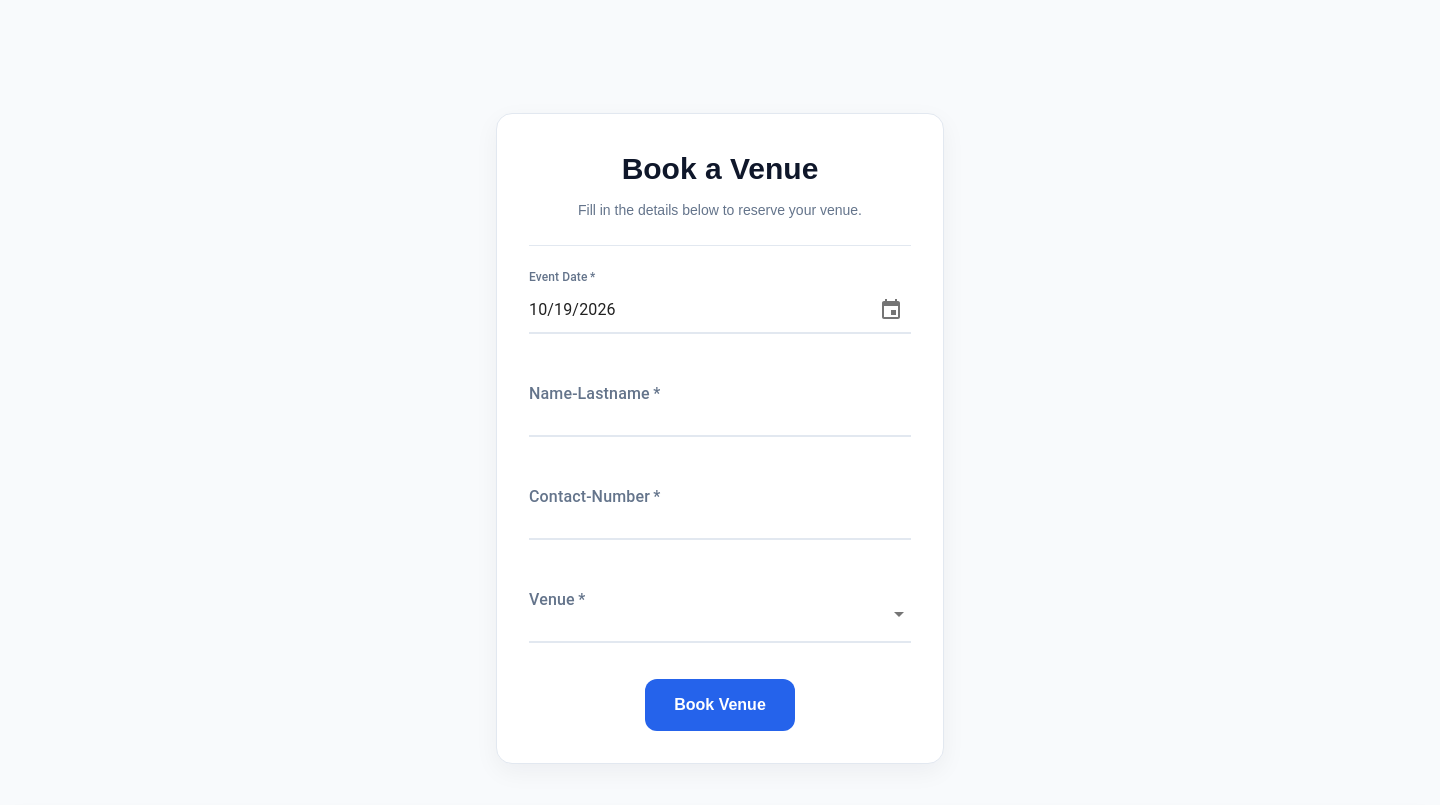
Test: books as a visitor and displays the submitted details from Redux
Type " James Weston " into the field labelled "Name-Lastname *" at (720,408), box x1=529 y1=386 x2=911 y2=429
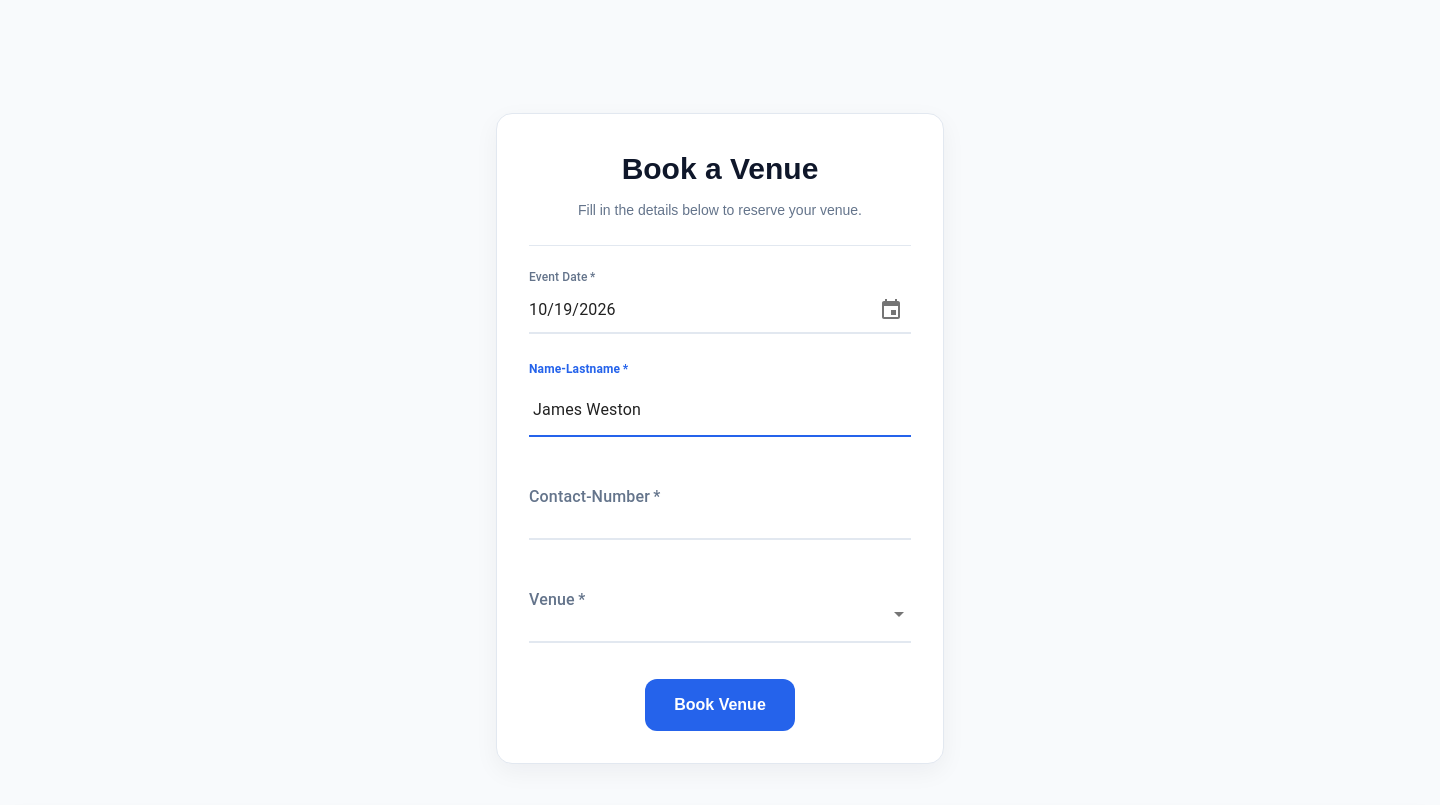
Type "0827789544" into the field labelled "Contact-Number *" at (720,511), box x1=529 y1=489 x2=911 y2=532
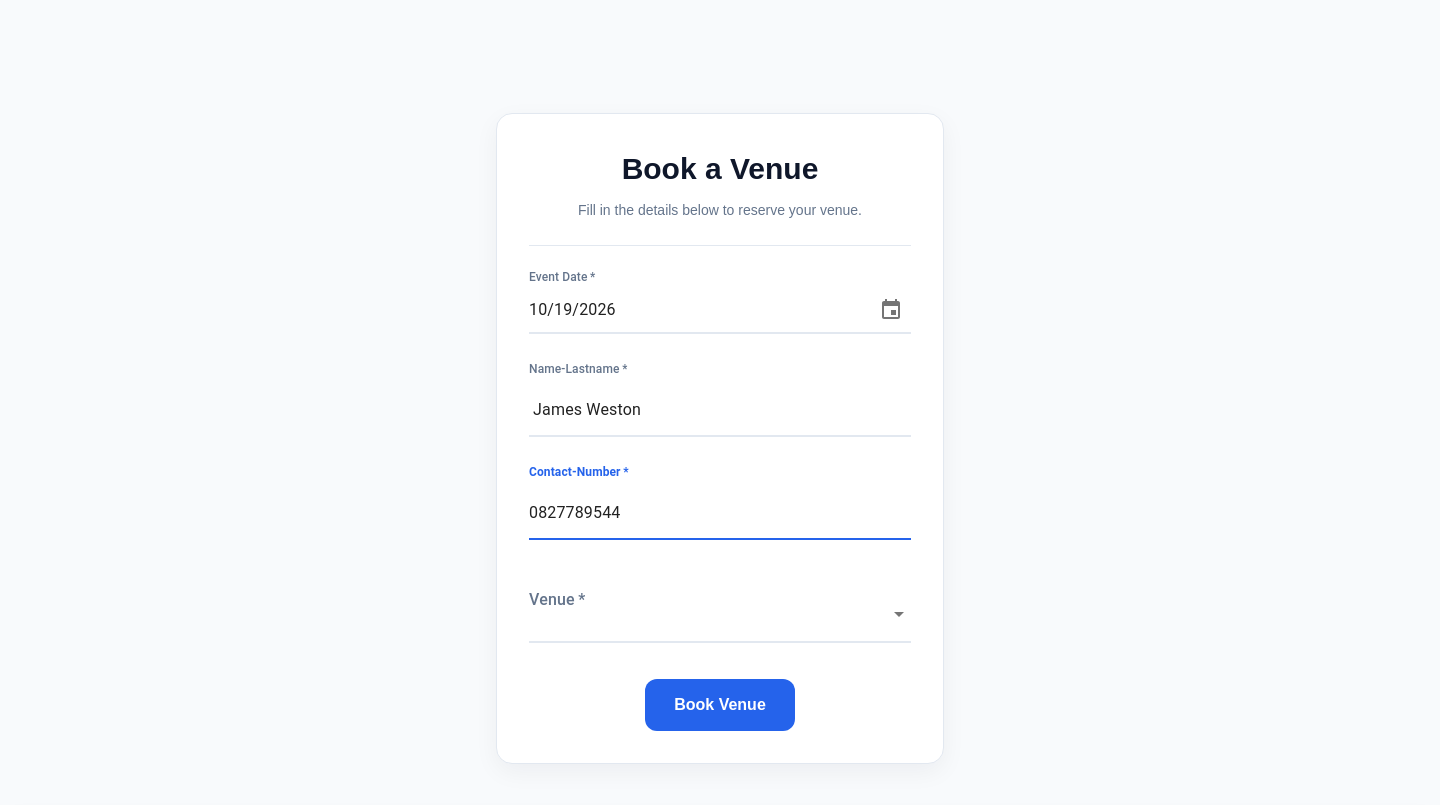
Click the dropdown named "Venue" at (720,614), box x1=529 y1=592 x2=911 y2=635
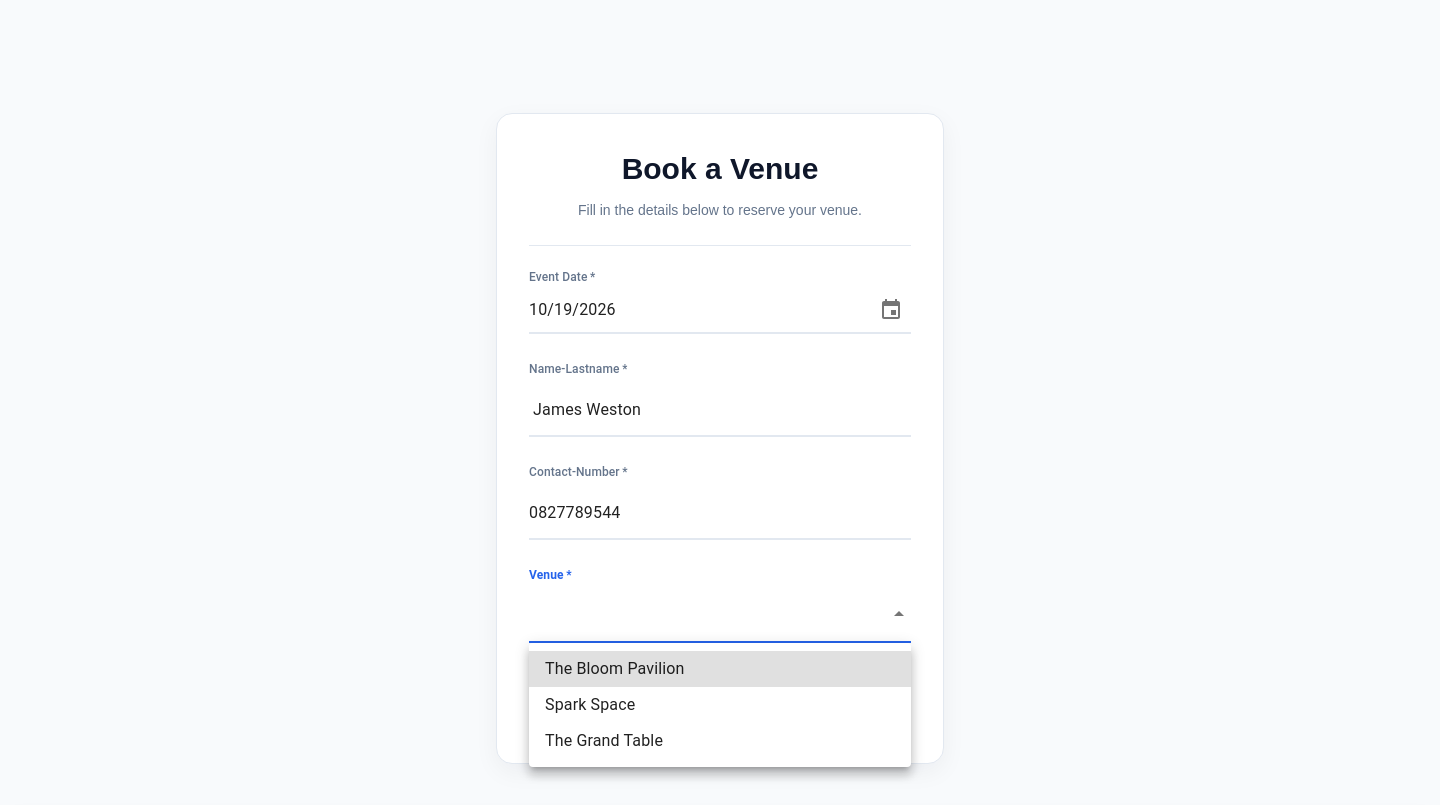
Click the option "The Bloom Pavilion" at (615,668), box x1=529 y1=651 x2=911 y2=687
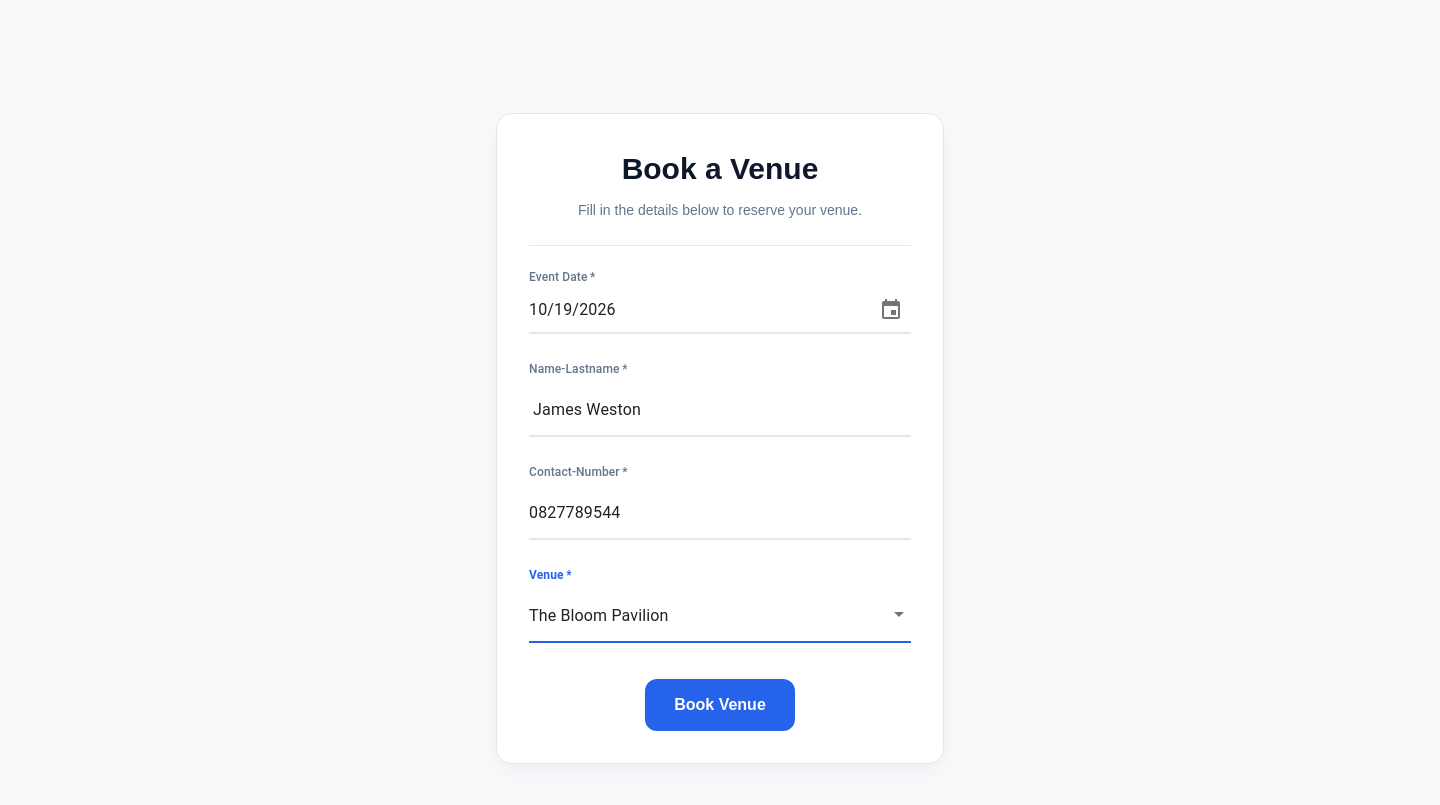
Click the button "Book Venue" at (720,705), box x1=645 y1=679 x2=795 y2=731
(page scrolled)
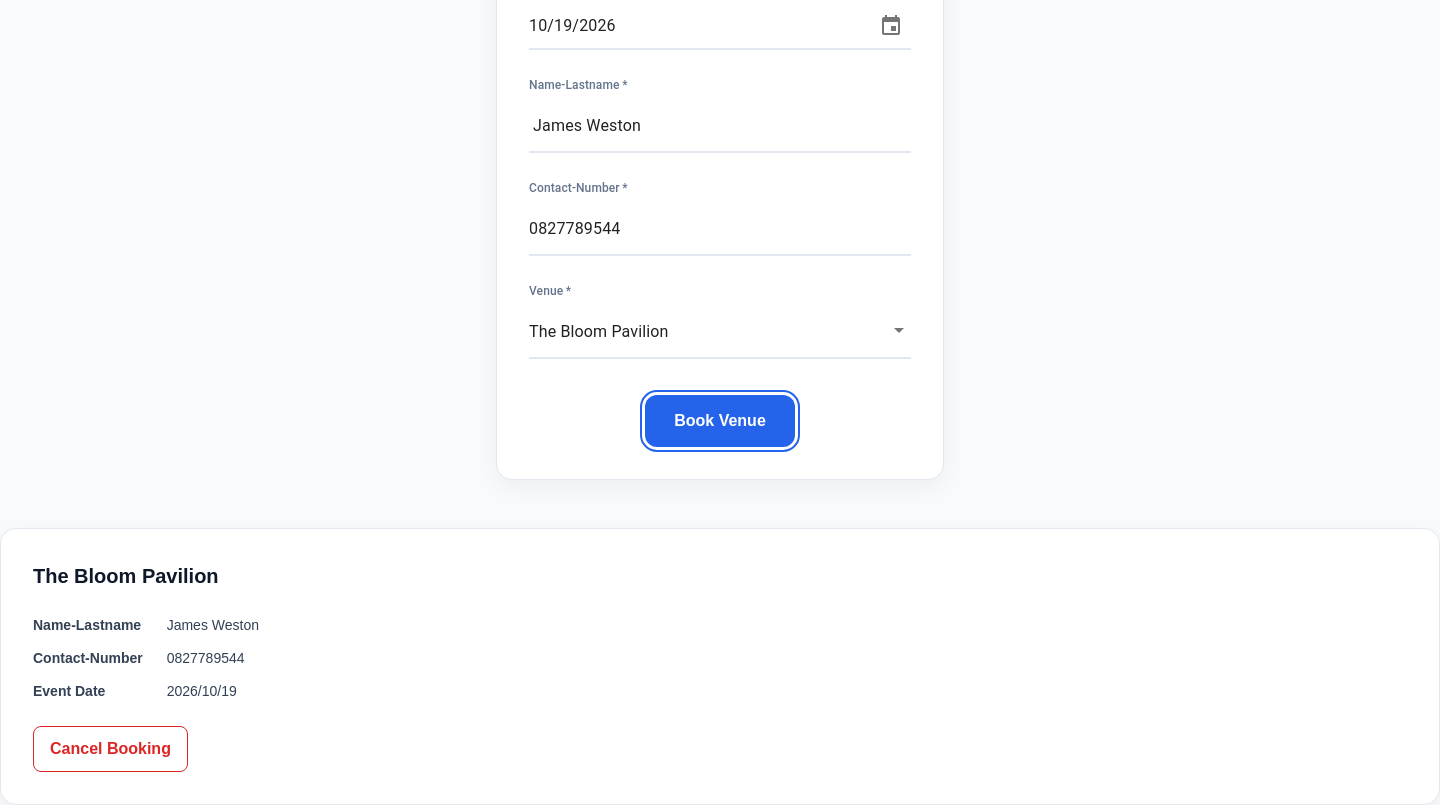
Expected: the text "James Weston" is shown, x1=167 y1=617 x2=259 y2=633
Expected: the text "0827789544" is shown, x1=167 y1=650 x2=245 y2=666
